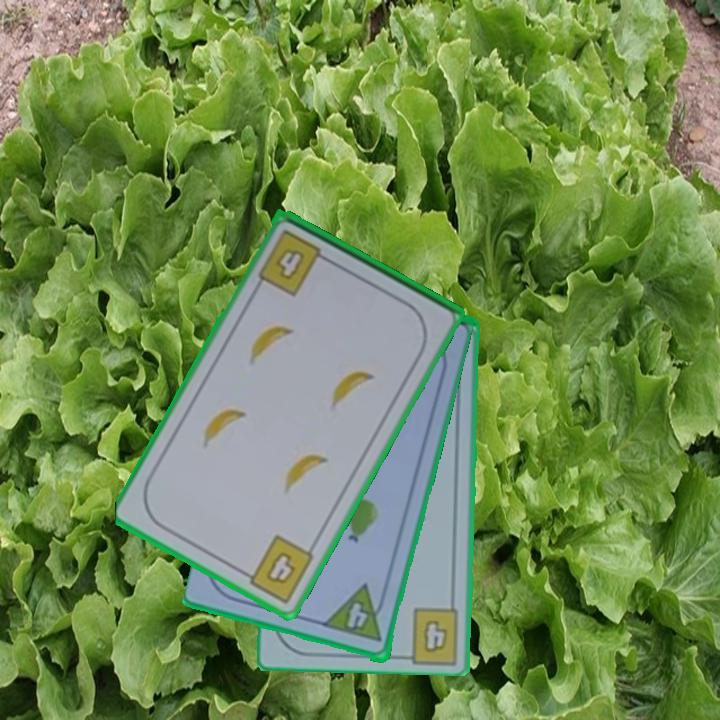4b: (237, 531, 317, 607), (254, 226, 334, 299), (420, 617, 451, 656)
4p: (321, 582, 391, 646)
